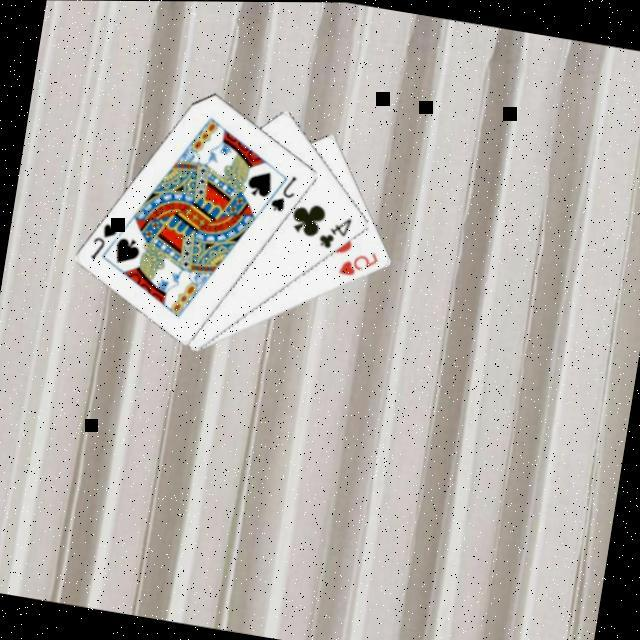4C: (316, 209, 358, 254)
5H: (337, 242, 386, 282)
JS: (268, 168, 304, 216), (89, 217, 124, 265)
